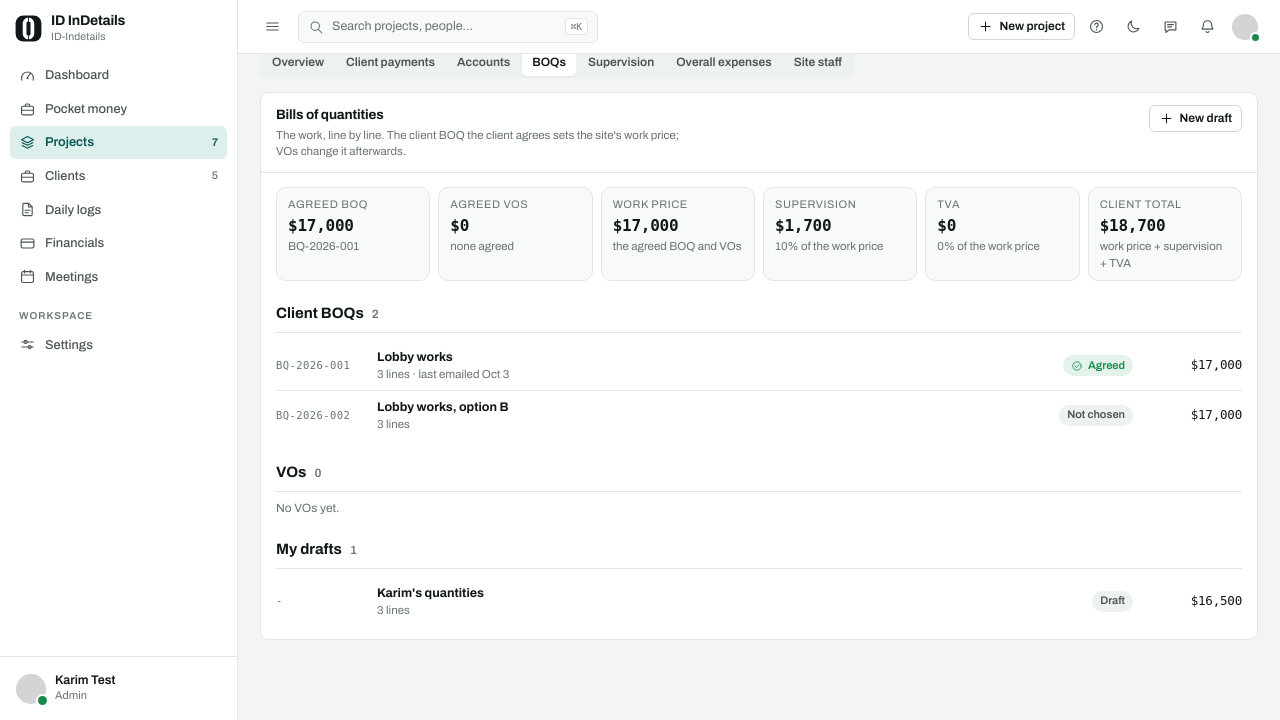
Test: a site's bills of quantities › show someone who writes drafts their own, and nothing else to write
(page scrolled)
Expected: the heading "My drafts 1" is shown, [276,539,1242,569]
Expected: the button "New draft" is enabled, [1148,105,1242,132]
Click the button with aria-label "Open Karim's quantities". click: (430, 593)
box: [276,577,1242,625]
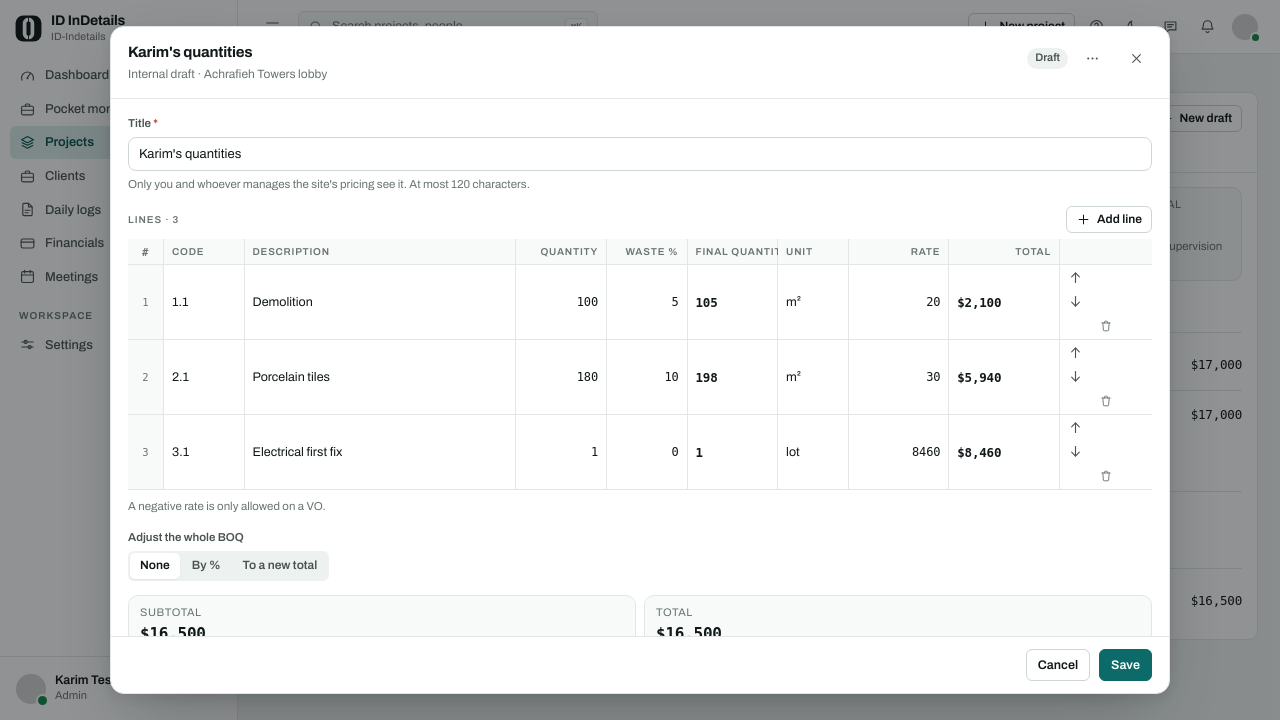
Now the field named "Description 1" is enabled, box [244,286,515,319]
Now the button "Save" is enabled, box [1099,649,1152,681]
and a client BOQ is only read
Click the button "Cancel". click: (1058, 665)
box: [1026,649,1090,681]
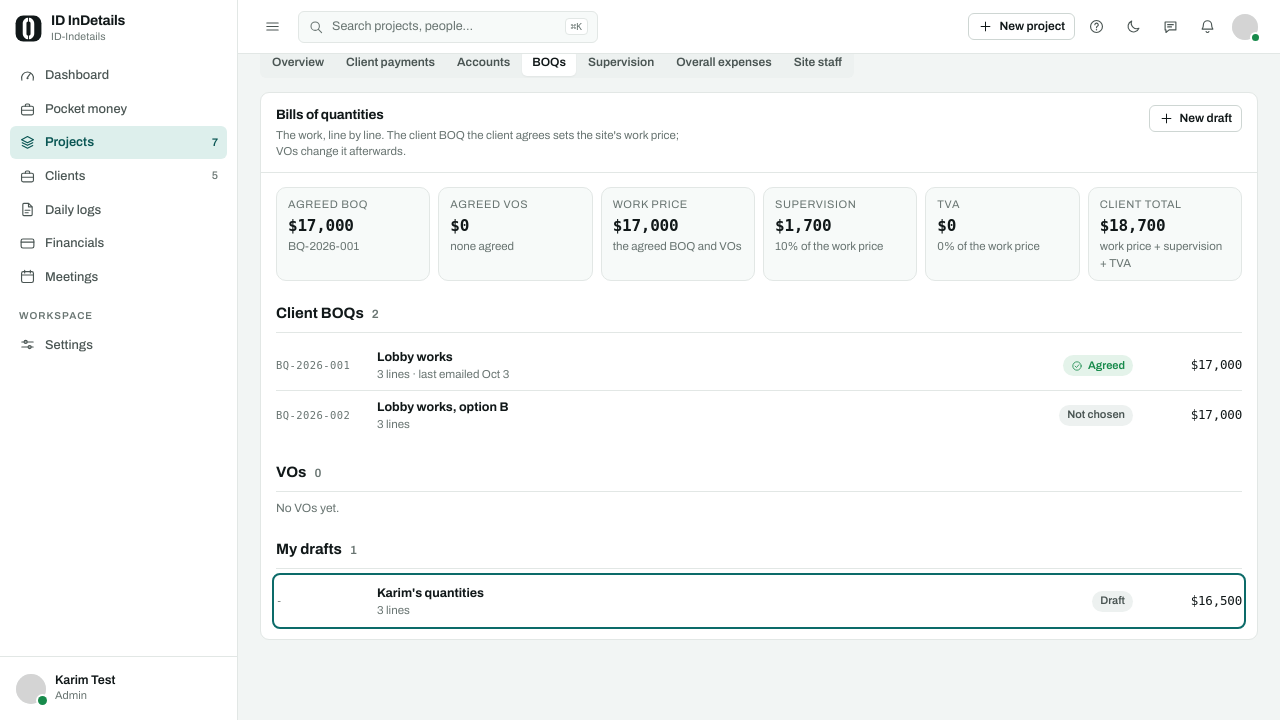
Click the button with aria-label "Open BQ-2026-002". click: (313, 415)
box: [276,391,1242,440]
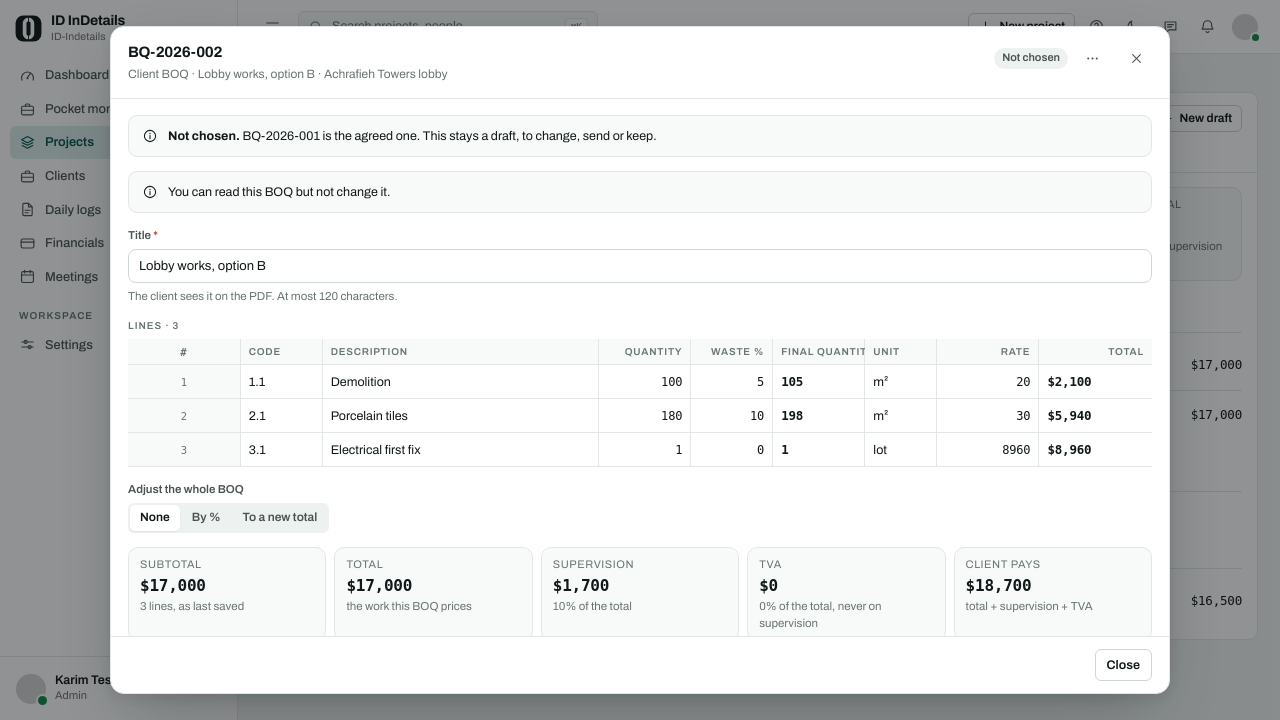
Now the field named "Description 1" is disabled, box [323,365,598,398]
